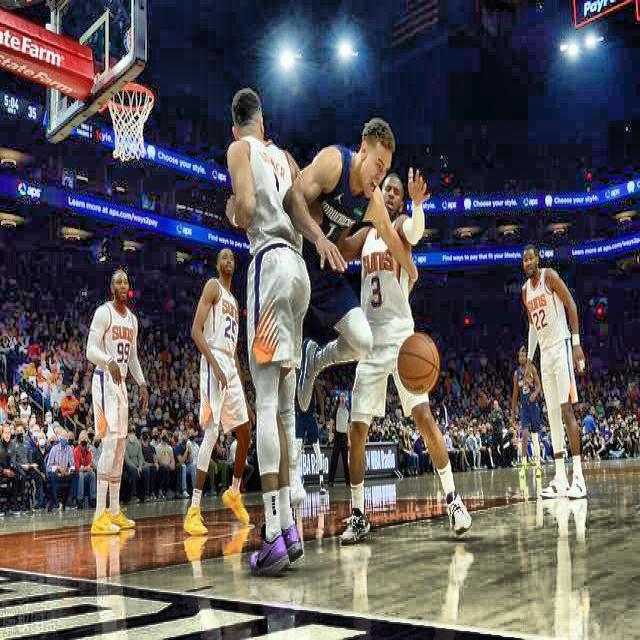board: (398, 334, 440, 396)
rim: (107, 80, 154, 161)
